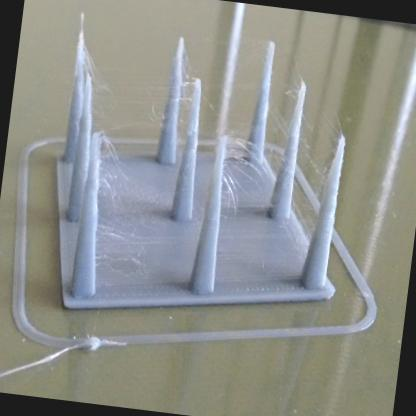fail: (219, 137, 251, 221), (94, 136, 126, 202)
